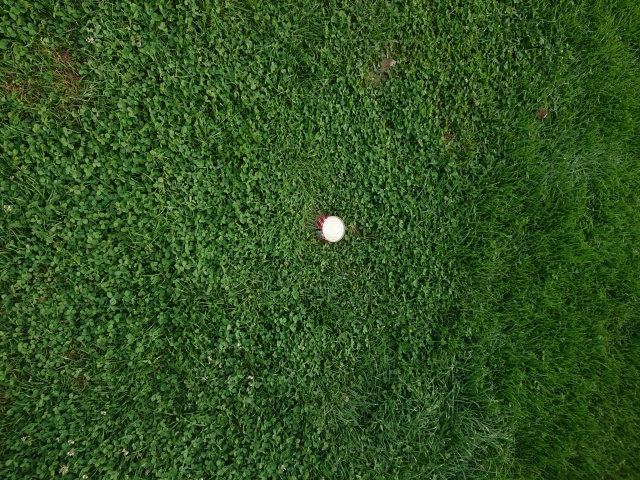Podravka Luncheon Meat 150g: (313, 213, 347, 245)
